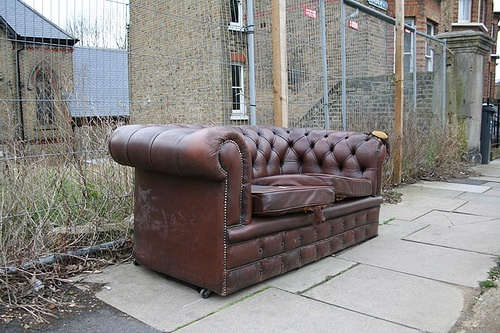sofa: (106, 121, 392, 299)
